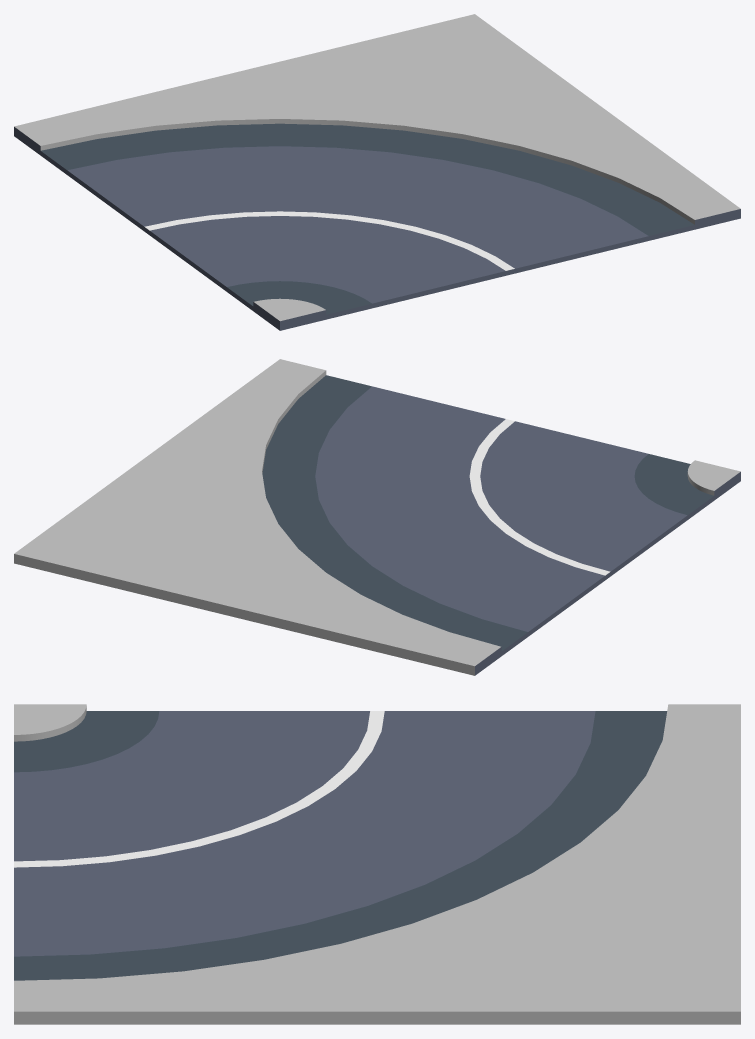
File: SM_Road_Bend_Sidewalk.fbx
3 renders of one model, top to bottom at view 1: azimuth 30°, elevation 25°; view 2: azimuth 150°, elevation 25°; view 3: azimuth 270°, elevation 25°, orthographic. The views are drawn at different scales.
Visible parts, largest first — view 1: SM_Road_Bend_Sidewalk; view 2: SM_Road_Bend_Sidewalk; view 3: SM_Road_Bend_Sidewalk.
Part boxes in pixels (x1,y1,x2,y2): SM_Road_Bend_Sidewalk: [14, 14, 740, 330]; SM_Road_Bend_Sidewalk: [14, 359, 740, 675]; SM_Road_Bend_Sidewalk: [14, 704, 740, 1024].
Size of the model in its own units: 1000 by 20 by 1000.
